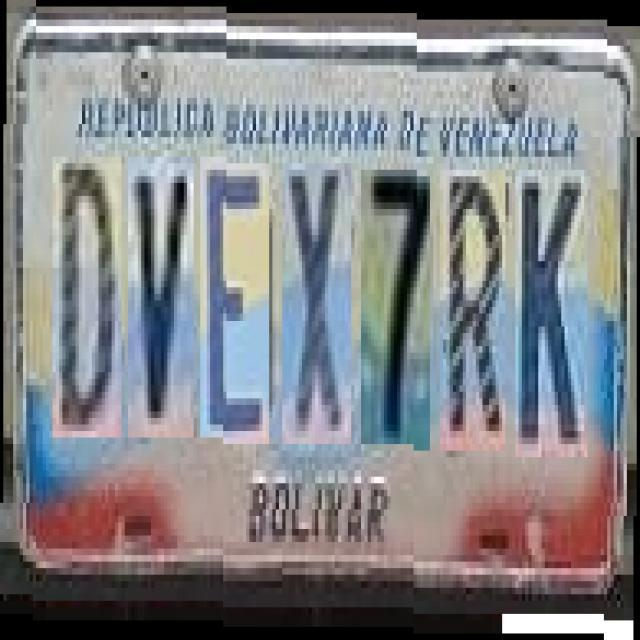7: (361, 163, 430, 438)
D: (52, 156, 121, 438)
E: (200, 156, 269, 438)
K: (516, 156, 588, 444)
R: (440, 156, 506, 438)
V: (128, 156, 194, 438)
X: (282, 156, 351, 438)
